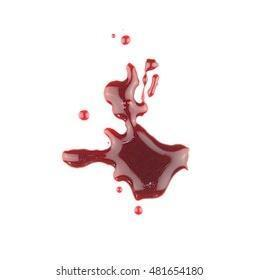Bloodstain-Detection: (99, 137, 185, 185), (103, 87, 150, 123), (64, 154, 101, 161)
